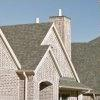Chimney: (46, 5, 72, 24)
